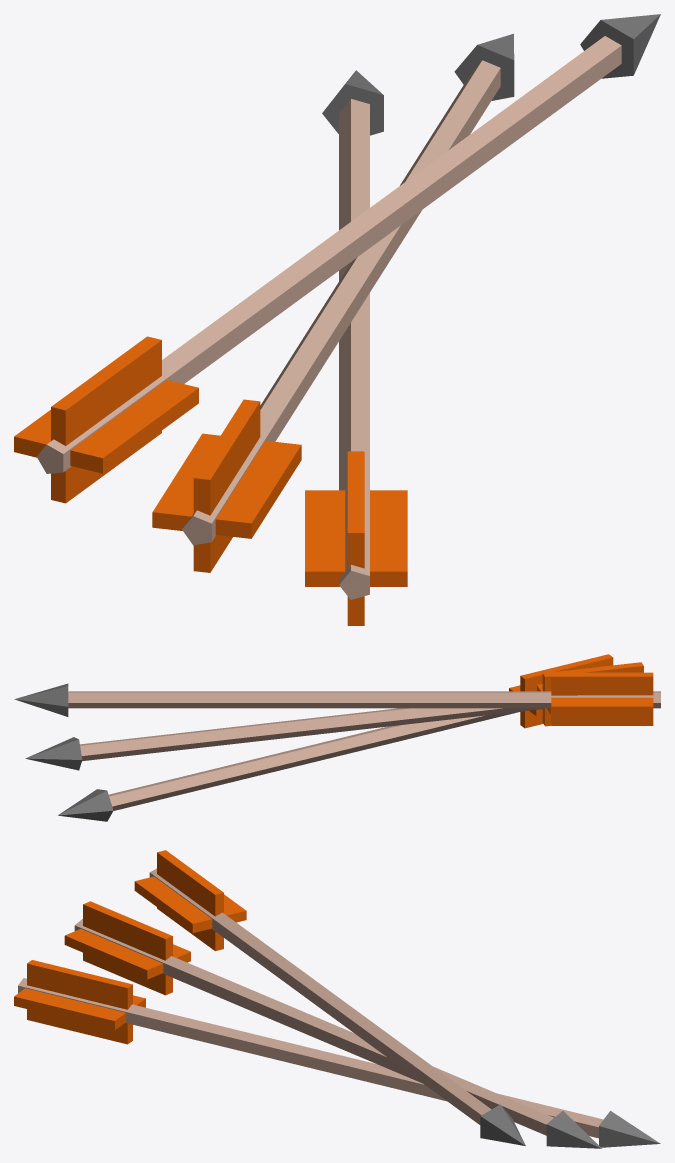
The model's file is ce_ammo2_arrowjar_flame_b.obj.
3 renders of one model, top to bottom at view 1: azimuth 30°, elevation 25°; view 2: azimuth 150°, elevation 25°; view 3: azimuth 270°, elevation 25°, orthographic. The views are drawn at different scales.
Visible parts, largest first — view 1: ce_ammo2_arrowjar_flame_b_8, ce_ammo2_arrowjar_flame_b_4, ce_ammo2_arrowjar_flame_b_0, ce_ammo2_arrowjar_flame_b_2, ce_ammo2_arrowjar_flame_b_6, ce_ammo2_arrowjar_flame_b_11, ce_ammo2_arrowjar_flame_b_10, ce_ammo2_arrowjar_flame_b_7, ce_ammo2_arrowjar_flame_b_3, ce_ammo2_arrowjar_flame_b_9, ce_ammo2_arrowjar_flame_b_5, ce_ammo2_arrowjar_flame_b_1; view 2: ce_ammo2_arrowjar_flame_b_8, ce_ammo2_arrowjar_flame_b_4, ce_ammo2_arrowjar_flame_b_0, ce_ammo2_arrowjar_flame_b_11, ce_ammo2_arrowjar_flame_b_10, ce_ammo2_arrowjar_flame_b_3, ce_ammo2_arrowjar_flame_b_1, ce_ammo2_arrowjar_flame_b_5, ce_ammo2_arrowjar_flame_b_9, ce_ammo2_arrowjar_flame_b_7; view 3: ce_ammo2_arrowjar_flame_b_0, ce_ammo2_arrowjar_flame_b_8, ce_ammo2_arrowjar_flame_b_4, ce_ammo2_arrowjar_flame_b_3, ce_ammo2_arrowjar_flame_b_7, ce_ammo2_arrowjar_flame_b_11, ce_ammo2_arrowjar_flame_b_2, ce_ammo2_arrowjar_flame_b_6, ce_ammo2_arrowjar_flame_b_10, ce_ammo2_arrowjar_flame_b_1, ce_ammo2_arrowjar_flame_b_5, ce_ammo2_arrowjar_flame_b_9.
Boxes of the visible parts, box(x1,y1,x2,y2) form: ce_ammo2_arrowjar_flame_b_8: box(37, 36, 621, 473); ce_ammo2_arrowjar_flame_b_4: box(182, 60, 500, 545); ce_ammo2_arrowjar_flame_b_0: box(339, 99, 369, 599); ce_ammo2_arrowjar_flame_b_2: box(305, 490, 407, 586); ce_ammo2_arrowjar_flame_b_6: box(152, 433, 301, 538); ce_ammo2_arrowjar_flame_b_11: box(51, 336, 161, 503); ce_ammo2_arrowjar_flame_b_10: box(14, 380, 198, 473); ce_ammo2_arrowjar_flame_b_7: box(193, 399, 260, 572); ce_ammo2_arrowjar_flame_b_3: box(347, 451, 364, 625); ce_ammo2_arrowjar_flame_b_9: box(580, 14, 660, 78); ce_ammo2_arrowjar_flame_b_5: box(454, 33, 514, 100); ce_ammo2_arrowjar_flame_b_1: box(322, 70, 383, 135); ce_ammo2_arrowjar_flame_b_8: box(68, 691, 660, 708); ce_ammo2_arrowjar_flame_b_4: box(80, 708, 544, 761); ce_ammo2_arrowjar_flame_b_0: box(109, 711, 519, 810); ce_ammo2_arrowjar_flame_b_11: box(551, 672, 653, 725); ce_ammo2_arrowjar_flame_b_10: box(551, 697, 653, 714); ce_ammo2_arrowjar_flame_b_3: box(520, 654, 613, 728); ce_ammo2_arrowjar_flame_b_1: box(58, 789, 113, 821); ce_ammo2_arrowjar_flame_b_5: box(25, 737, 82, 770); ce_ammo2_arrowjar_flame_b_9: box(14, 683, 68, 716); ce_ammo2_arrowjar_flame_b_7: box(542, 662, 643, 726); ce_ammo2_arrowjar_flame_b_0: box(18, 978, 603, 1138); ce_ammo2_arrowjar_flame_b_8: box(149, 868, 491, 1124); ce_ammo2_arrowjar_flame_b_4: box(74, 919, 553, 1135); ce_ammo2_arrowjar_flame_b_3: box(27, 960, 132, 1044); ce_ammo2_arrowjar_flame_b_7: box(83, 901, 172, 995); ce_ammo2_arrowjar_flame_b_11: box(157, 850, 223, 951); ce_ammo2_arrowjar_flame_b_2: box(14, 988, 145, 1030); ce_ammo2_arrowjar_flame_b_6: box(64, 929, 190, 979); ce_ammo2_arrowjar_flame_b_10: box(134, 876, 246, 932); ce_ammo2_arrowjar_flame_b_1: box(599, 1111, 660, 1147); ce_ammo2_arrowjar_flame_b_5: box(546, 1111, 601, 1148); ce_ammo2_arrowjar_flame_b_9: box(480, 1104, 525, 1145).
Bounding box in the file's own units: 0.7498 × 0.142 × 0.7498.
